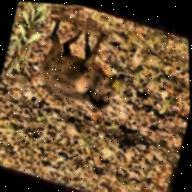boar: (31, 15, 137, 120)
